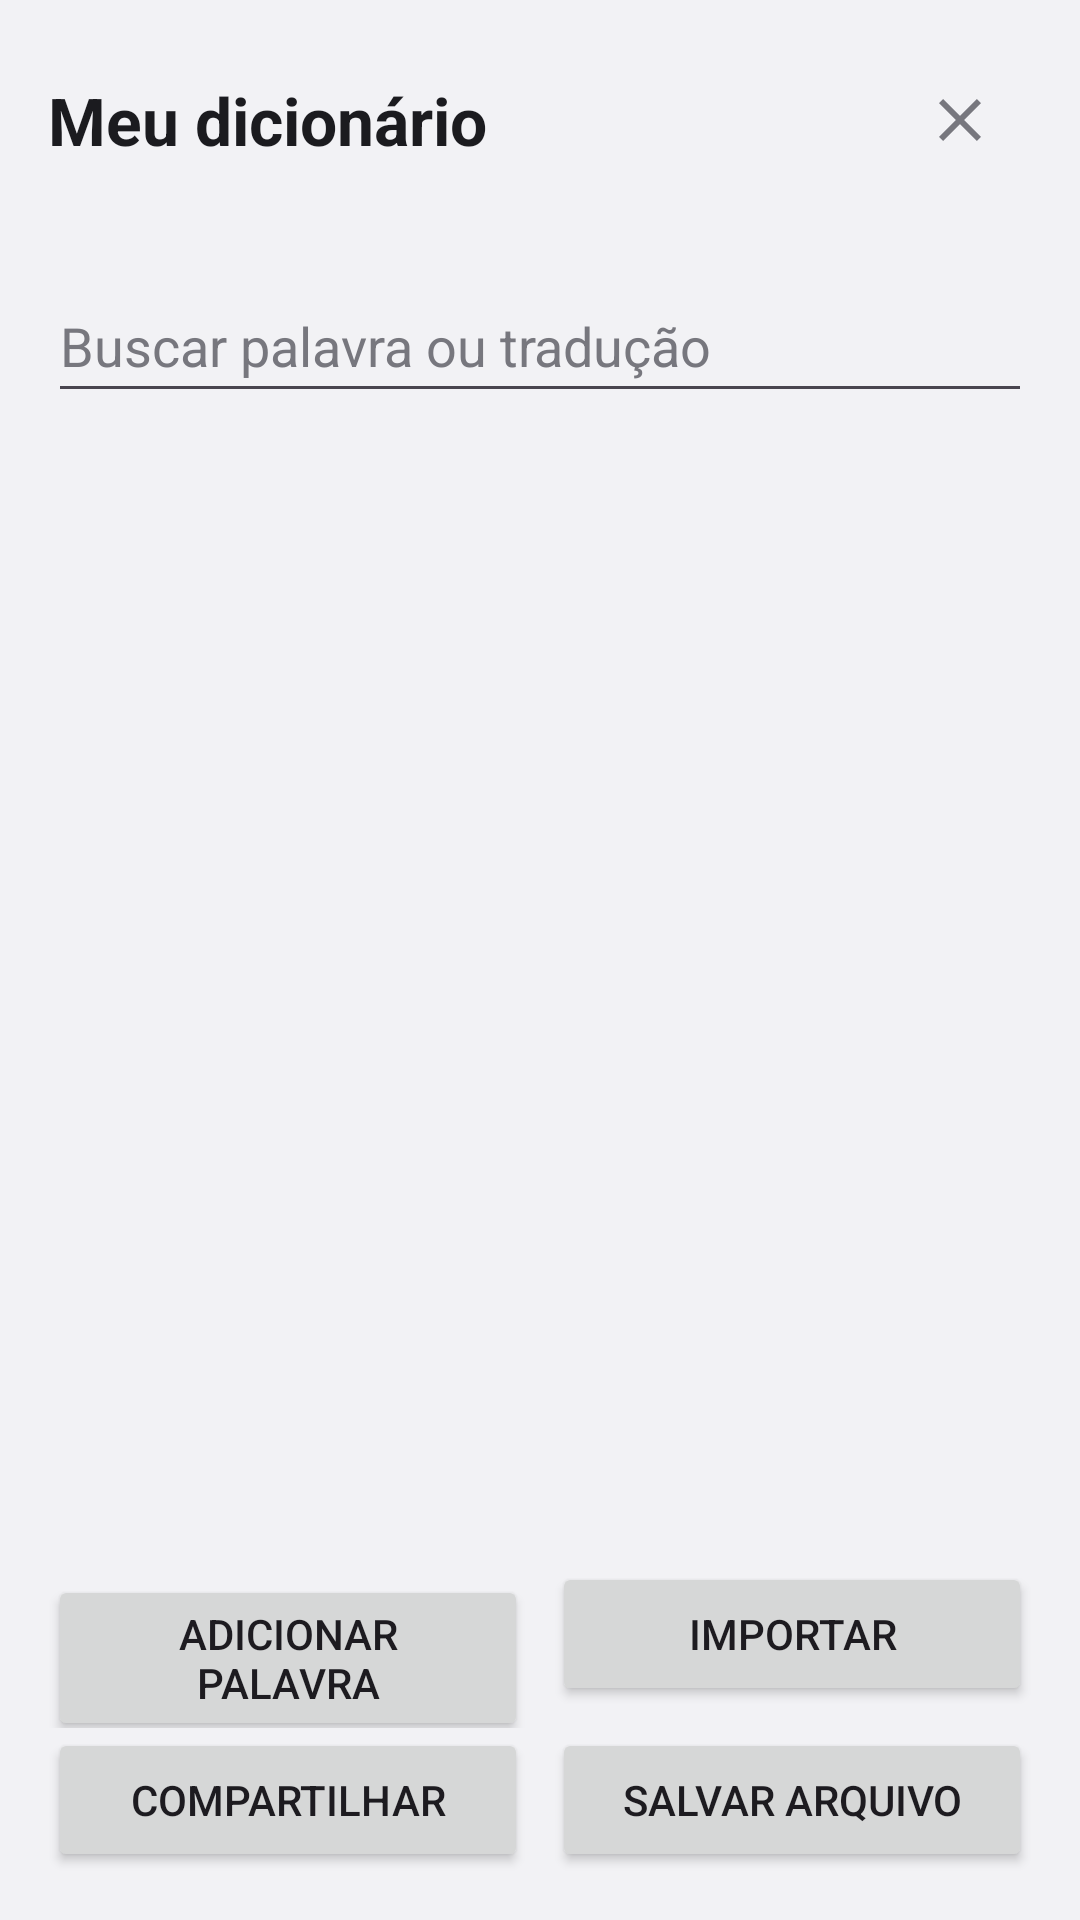

Screen size 1080 x 1920. Icon name, then its box in pixels as BBox(x1, y1, x2, y2):
Fechar: BBox(939, 99, 981, 141)
